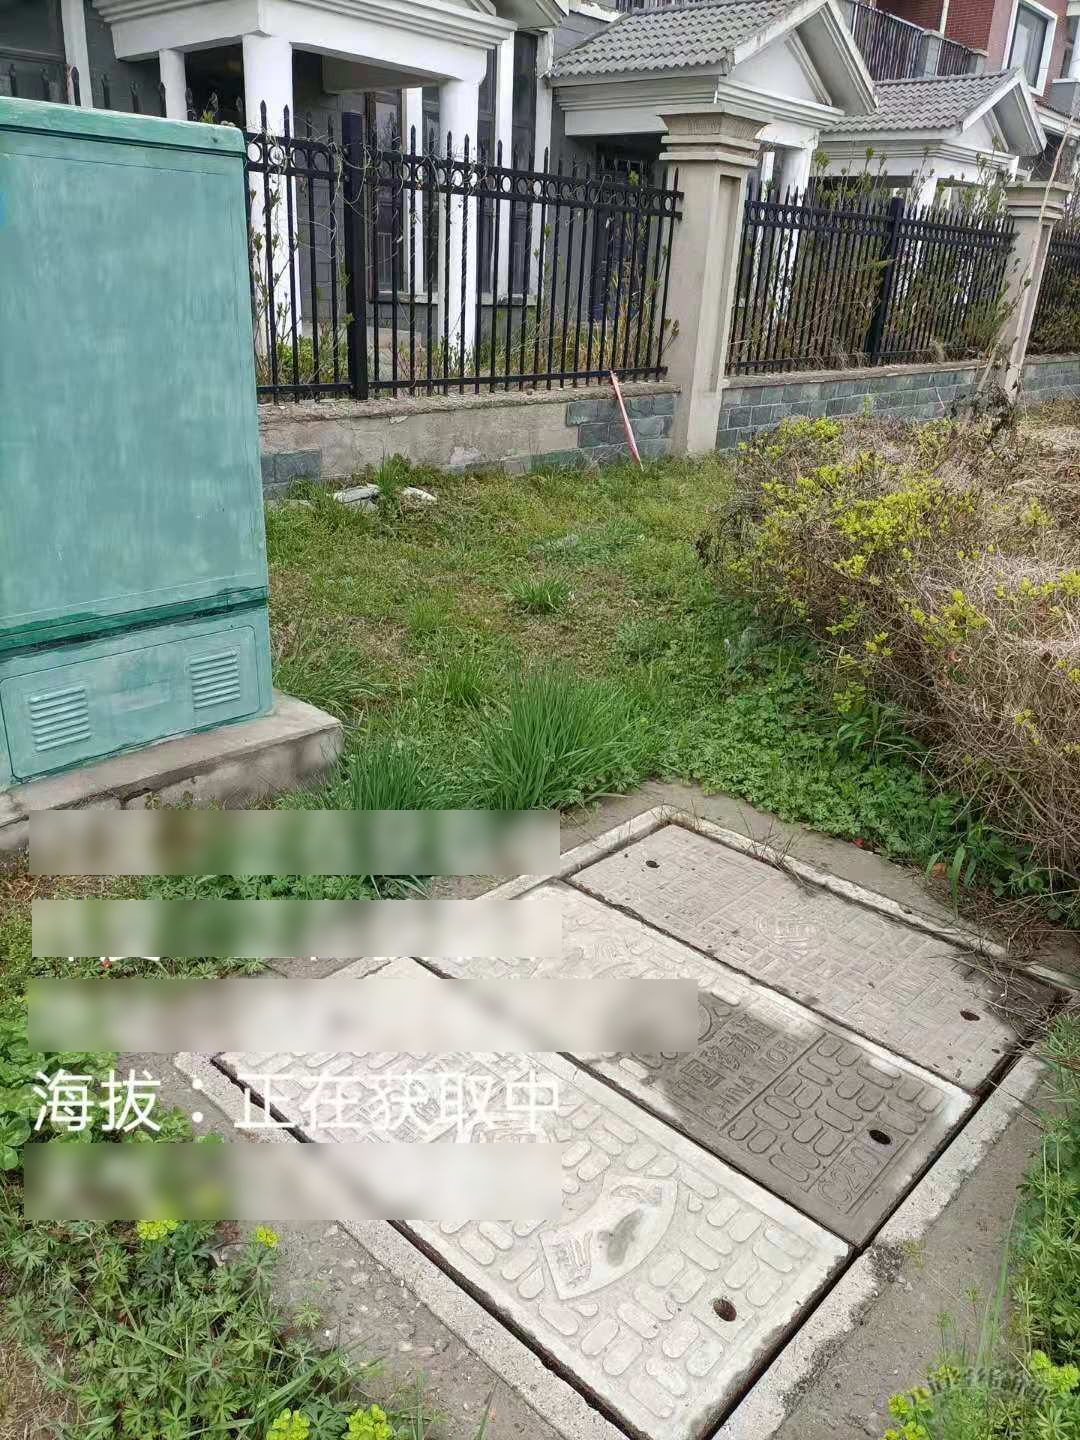good: (172, 804, 1080, 1435)
